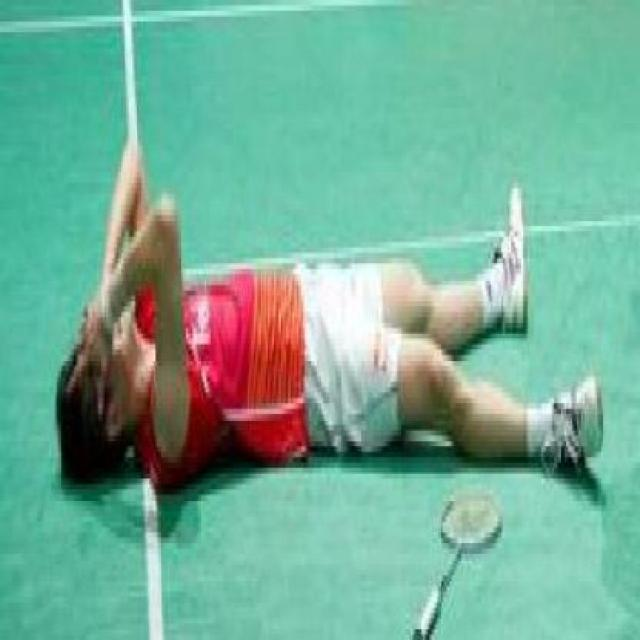fall: (21, 130, 625, 495)
